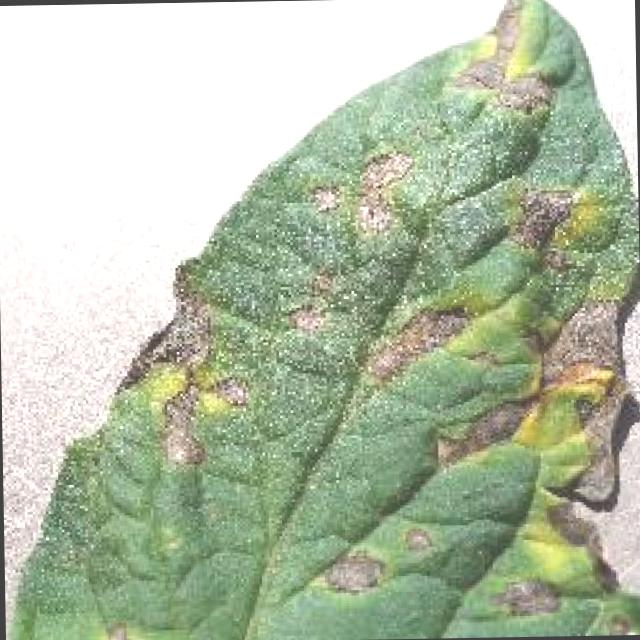leaf blight: (11, 0, 640, 640)
